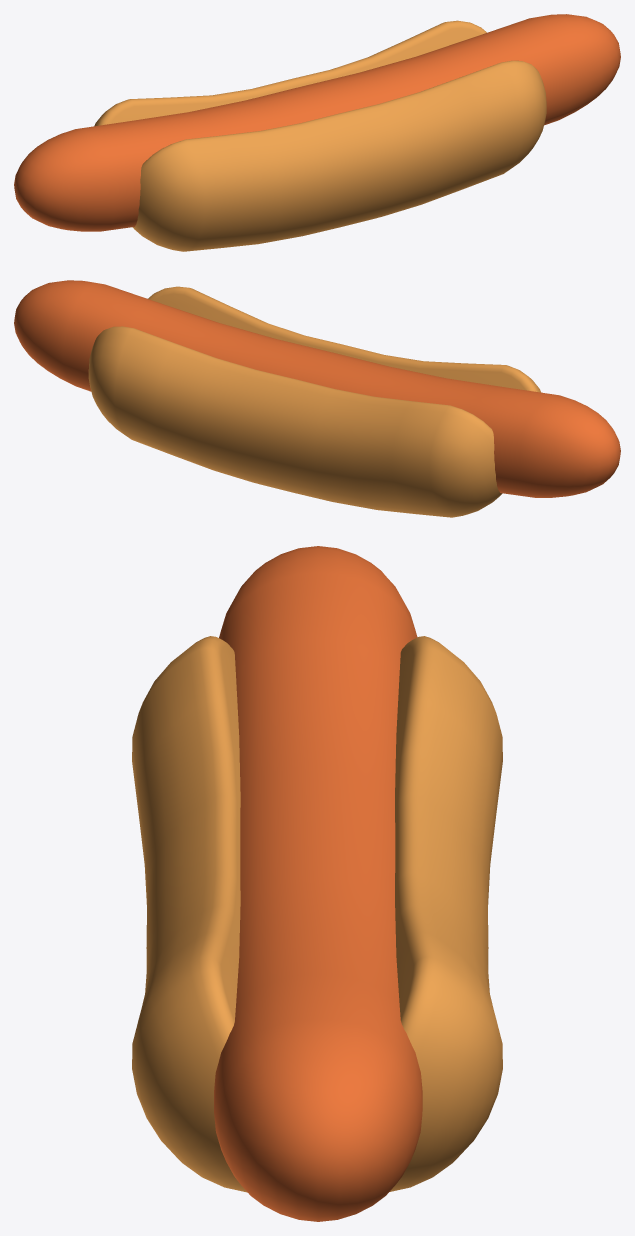
The model's file is HotDogJumbo.glb.
3 renders of one model, top to bottom at view 1: azimuth 30°, elevation 25°; view 2: azimuth 150°, elevation 25°; view 3: azimuth 270°, elevation 25°, orthographic. The views are drawn at different scales.
Visible parts, largest first — view 1: Cube, Cube.001, Cube.002; view 2: Cube.002, Cube.001, Cube; view 3: Cube.001, Cube, Cube.002.
Part boxes in pixels (bbox=[...]): Cube: bbox=[132, 60, 546, 251]; Cube.001: bbox=[14, 14, 620, 231]; Cube.002: bbox=[94, 20, 486, 126]; Cube.002: bbox=[88, 326, 502, 517]; Cube.001: bbox=[14, 280, 620, 497]; Cube: bbox=[148, 286, 541, 392]; Cube.001: bbox=[214, 546, 422, 1221]; Cube: bbox=[132, 636, 247, 1192]; Cube.002: bbox=[390, 636, 502, 1191].
Bounding box in the file's own units: 8.21 × 1.82 × 2.2.
